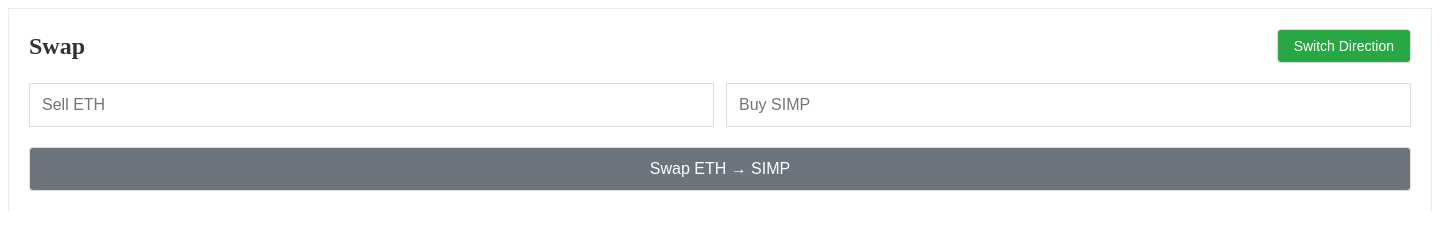
Test: Swap Component › Swap Calculation › should calculate Token to ETH swap correctly
Click the button "Switch Direction": (1344, 46) top-left (1277, 29), bottom-right (1411, 63)
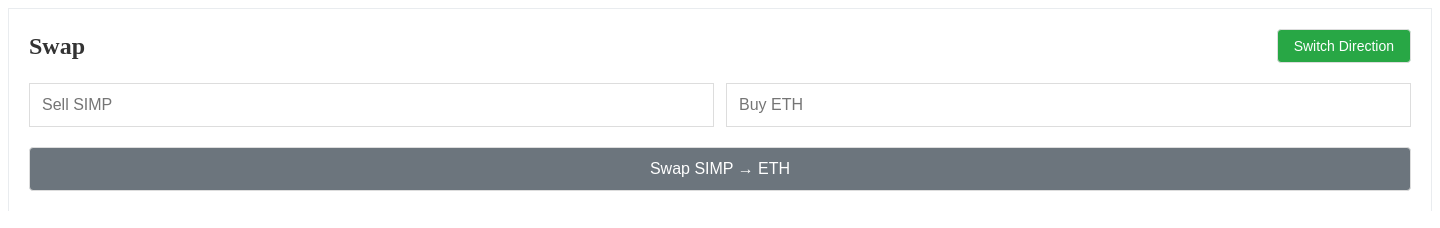
In the number field with placeholder "Sell SIMP": (372, 105) top-left (29, 83), bottom-right (714, 127), type "5"
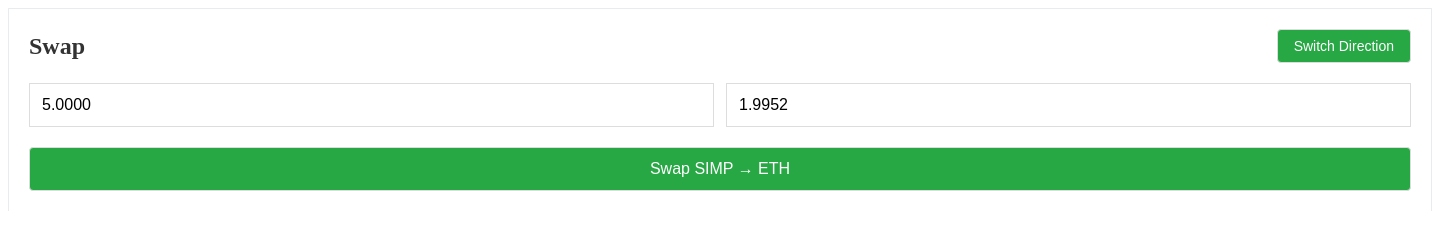
expect the 2nd number field with placeholder "Buy ETH" holds "1.9952": met, box top-left (726, 83), bottom-right (1411, 127)
